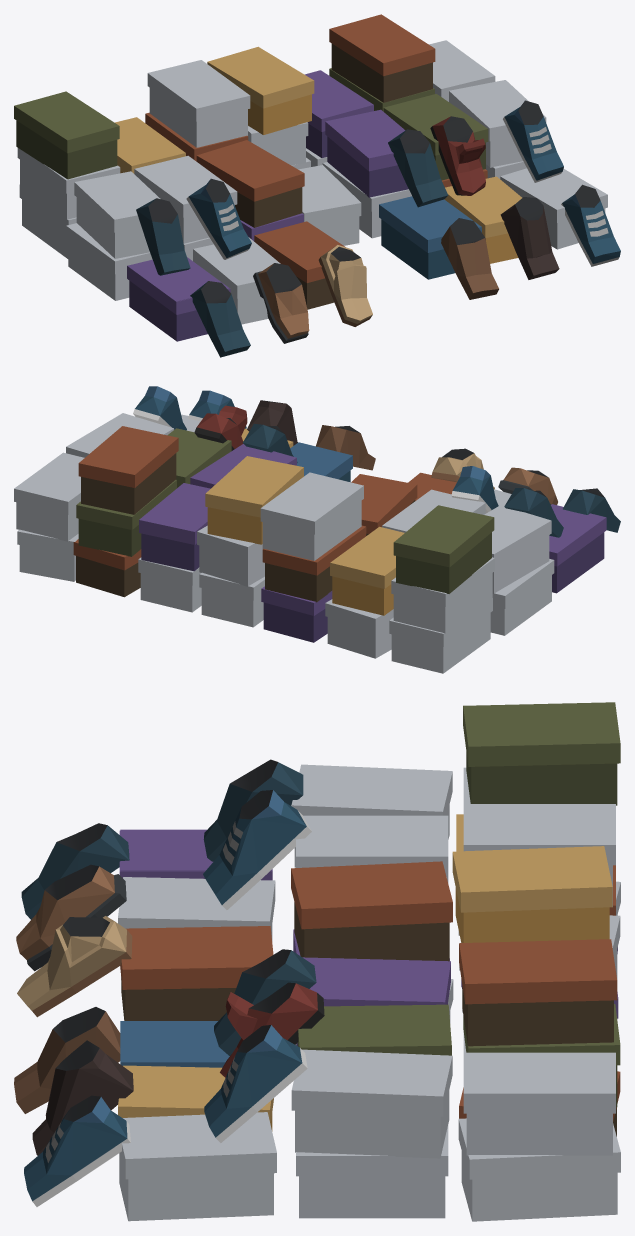
File: SM_Prop_ShoeShop_01.fbx
The picture shows the model from 3 angles, top to bottom: view 1: azimuth 30°, elevation 25°; view 2: azimuth 150°, elevation 25°; view 3: azimuth 270°, elevation 25°; orthographic projection. The views are drawn at different scales.
Parts seen in each view (by area): view 1: SM_Prop_ShoeShop_01; view 2: SM_Prop_ShoeShop_01; view 3: SM_Prop_ShoeShop_01.
Boxes of the visible parts, x1,y1,x2,y2 form: SM_Prop_ShoeShop_01: (14, 14, 620, 357); SM_Prop_ShoeShop_01: (14, 386, 620, 673); SM_Prop_ShoeShop_01: (14, 702, 620, 1221).
Size of the model in its own units: 150 by 40.16 by 115.
